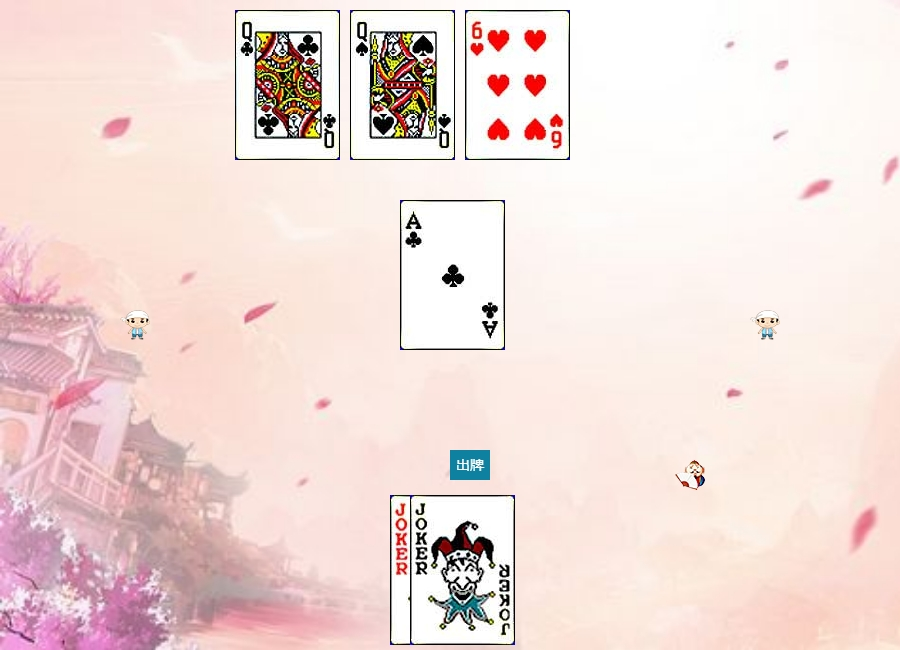12~2: (235, 10, 340, 160)
12~4: (350, 10, 455, 160)
14~2: (400, 200, 505, 350)
17~3: (410, 495, 515, 645)
18~4: (390, 495, 495, 645)
6~3: (465, 10, 570, 160)
